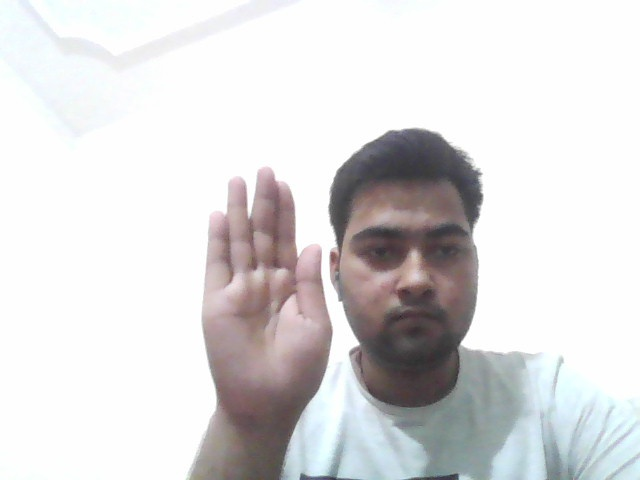Hello: (198, 161, 338, 416)
